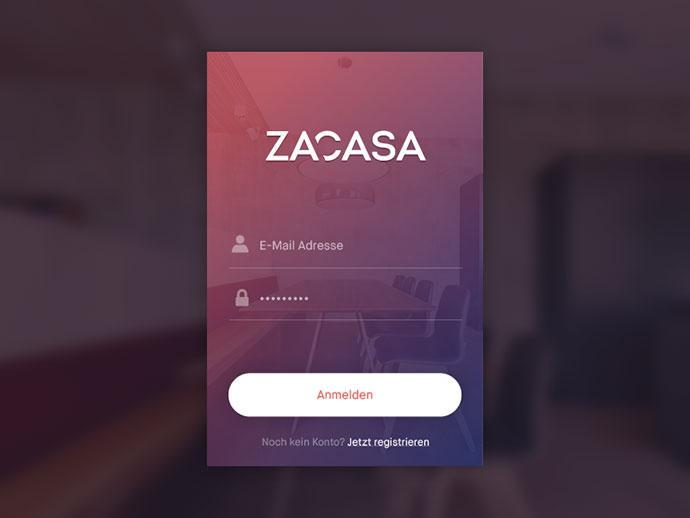button: (230, 373, 463, 417)
label: (260, 124, 432, 173)
